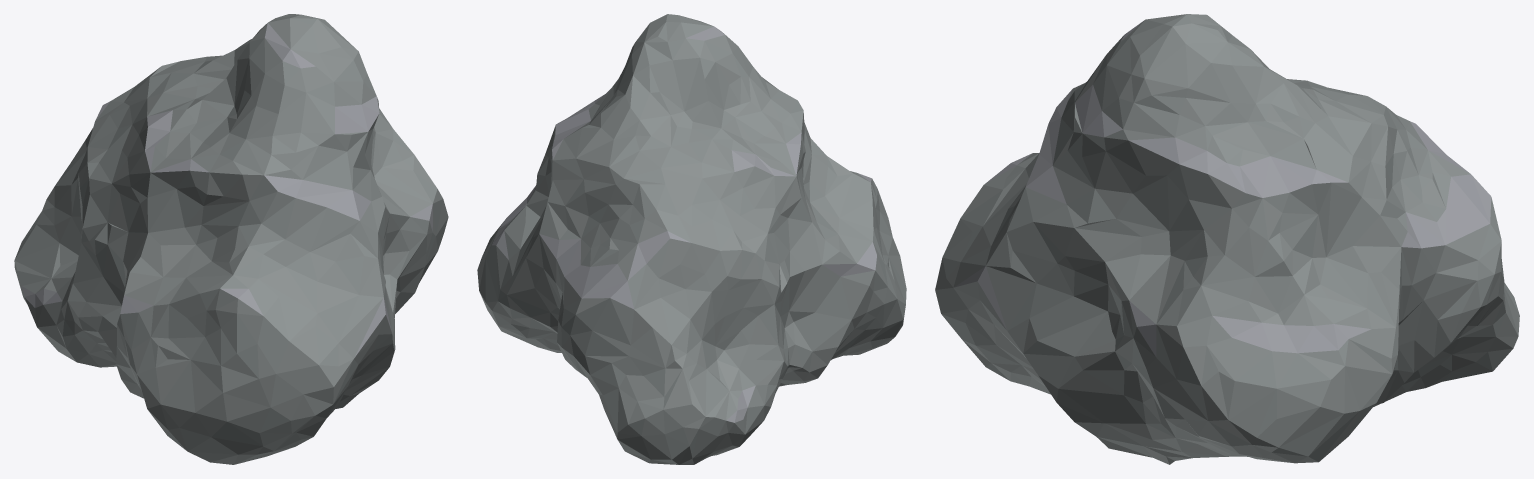
File: mesh_rock_big_05.fbx
The picture shows the model from 3 angles, left to right: view 1: azimuth 30°, elevation 25°; view 2: azimuth 150°, elevation 25°; view 3: azimuth 270°, elevation 25°; orthographic projection. The views are drawn at different scales.
Parts seen in each view (by area): view 1: mesh_rock_big_05_LOD0; view 2: mesh_rock_big_05_LOD0; view 3: mesh_rock_big_05_LOD0.
Boxes of the visible parts, <box> form: mesh_rock_big_05_LOD0: <box>14,14,448,464</box>; mesh_rock_big_05_LOD0: <box>477,14,906,464</box>; mesh_rock_big_05_LOD0: <box>935,14,1519,464</box>.
Size of what is drawn, in the model's own units: 2.53 by 2.52 by 3.05.
